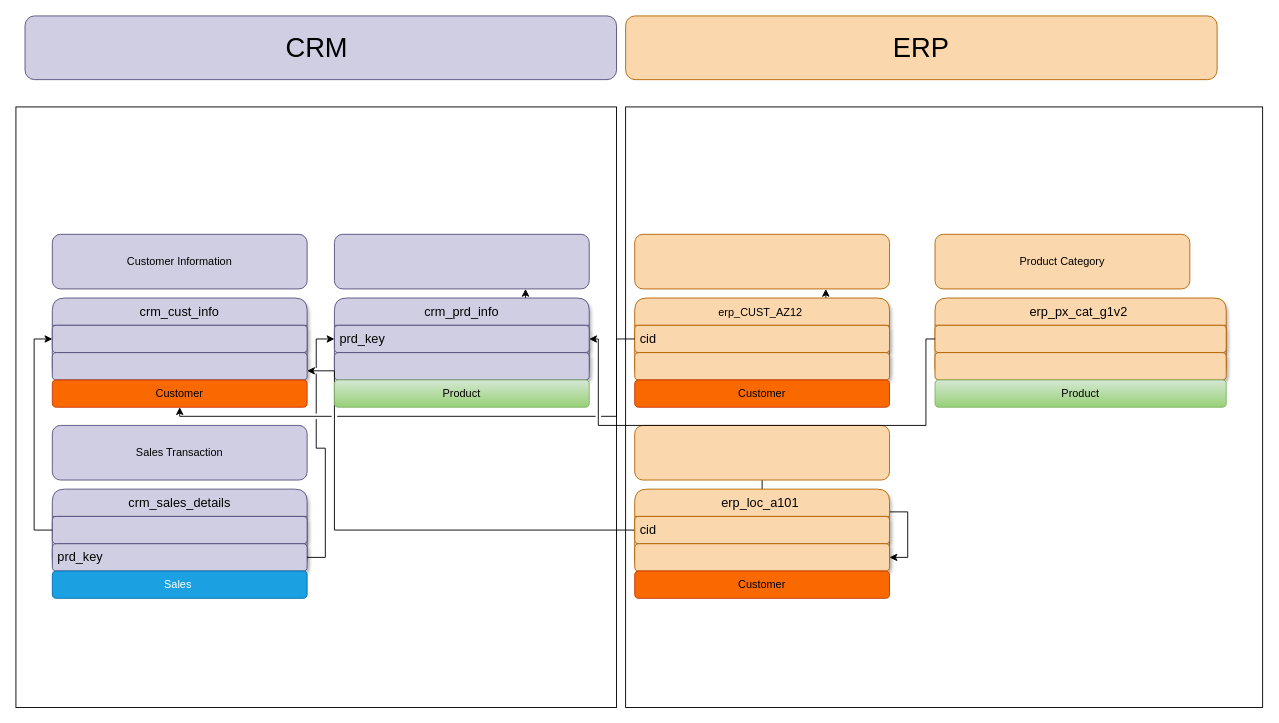
The diagram is 1279 pixels wide and 723 high, and some of its shapes have lost their labels. Here are the shapes that lost their labels. From the top down, the centre of each, then its label:
the point at 461,261: Product Information and History
the point at 762,261: Customer Details Add.
the point at 180,340: cst_id
the point at 1081,340: id
the point at 180,367: cst_key
the point at 762,452: Location of customer
the point at 180,531: sls_cust_id
